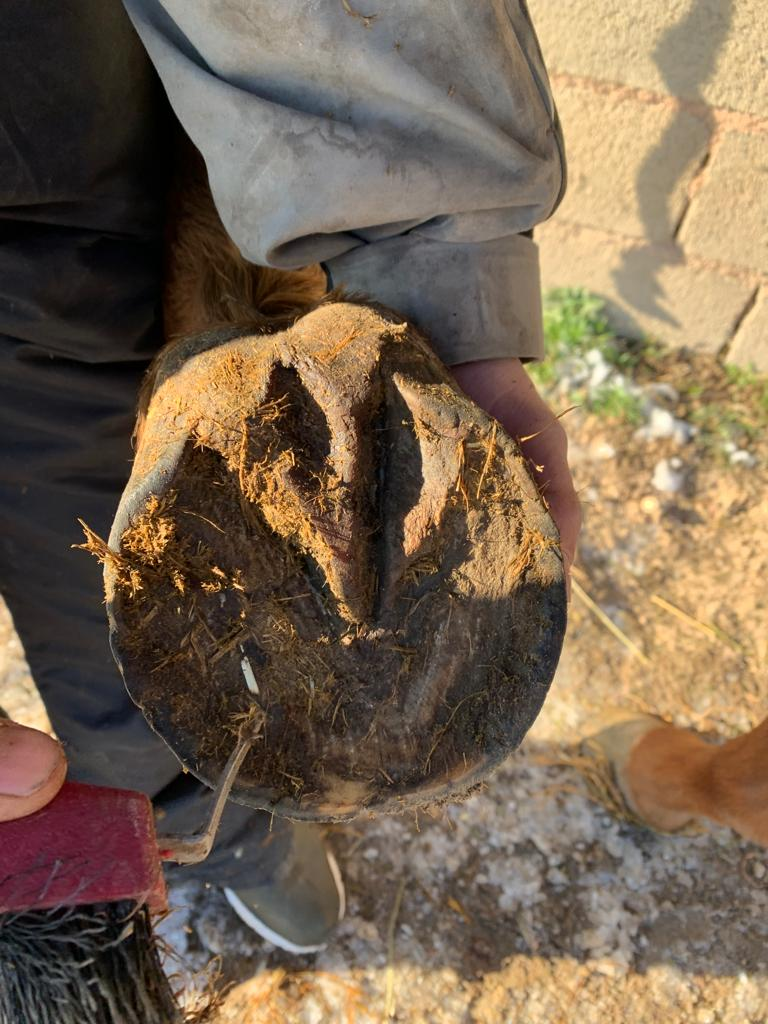horsesole: (103, 346, 569, 822)
